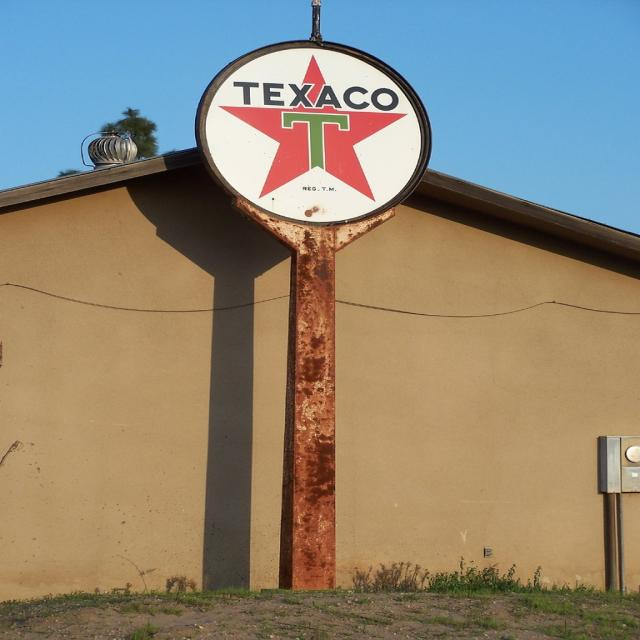texaco: (206, 48, 424, 224)
